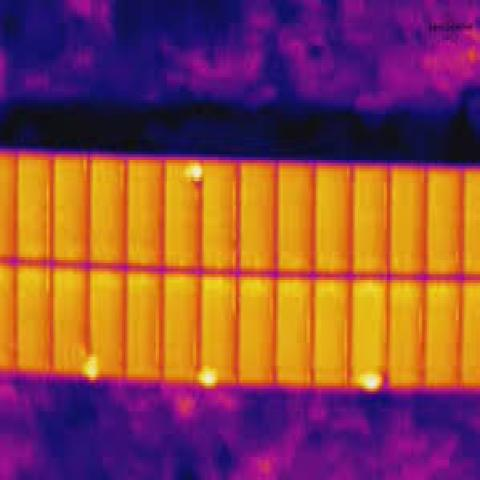fault: (85, 354, 100, 380), (199, 368, 217, 386), (363, 372, 382, 388), (186, 163, 202, 180)
